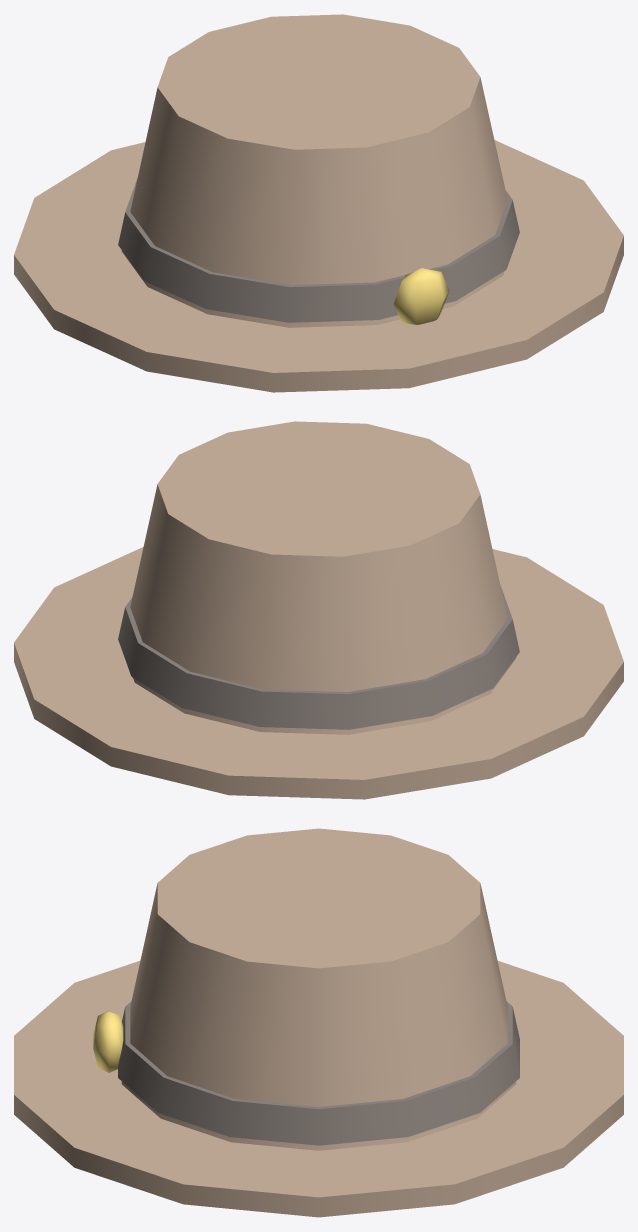
Rendered from hat_cowboy.glb.
The picture shows the model from 3 angles, top to bottom: view 1: azimuth 30°, elevation 25°; view 2: azimuth 150°, elevation 25°; view 3: azimuth 270°, elevation 25°; orthographic projection. The views are drawn at different scales.
Visible parts, largest first — view 1: hat_cowboy; view 2: hat_cowboy; view 3: hat_cowboy.
Boxes of the visible parts, x1=… form: hat_cowboy: x1=14, y1=14, x2=623, y2=392; hat_cowboy: x1=14, y1=421, x2=623, y2=799; hat_cowboy: x1=14, y1=828, x2=623, y2=1217.
Bounding box in the file's own units: 34 × 11.2 × 33.15.
